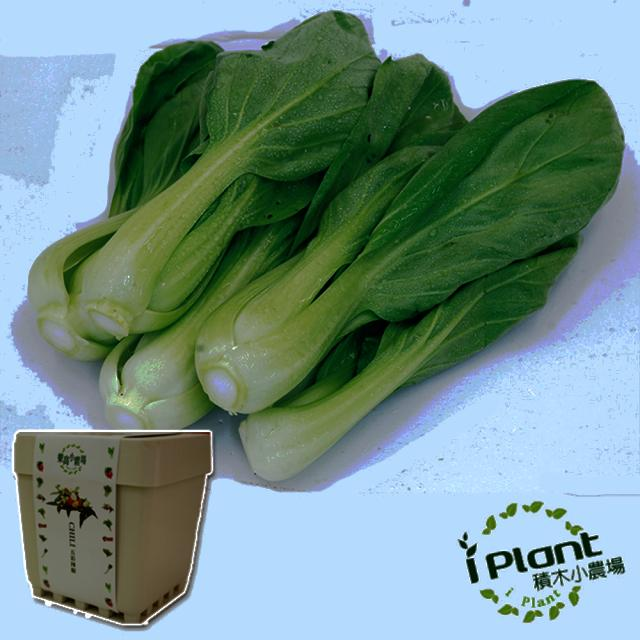chinese_cabbage: (42, 29, 620, 466)
